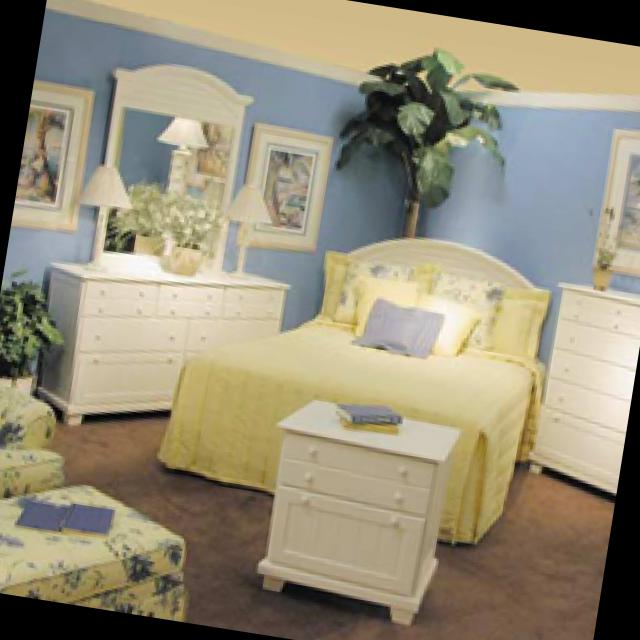bed -occluded-: (159, 233, 553, 540)
book case: (17, 499, 118, 535)
books crop: (337, 402, 408, 436)
bouquet: (598, 210, 617, 288)
carpet floor: (55, 411, 615, 640)
ceiling beam: (106, 0, 640, 93)
dresser: (41, 66, 293, 405), (534, 281, 640, 498)
lamp crop: (83, 164, 136, 266), (225, 182, 280, 273)
mirror crop: (111, 105, 237, 253)
night stand part: (261, 398, 467, 624)
ottoman: (0, 482, 191, 621)
painting crop: (16, 78, 101, 229), (241, 120, 339, 250), (597, 126, 640, 276)
pillow occluded: (323, 254, 435, 326), (355, 294, 450, 360), (439, 271, 508, 344), (419, 292, 488, 355), (360, 274, 419, 337), (498, 297, 548, 346)
plant -x: (342, 45, 519, 237), (0, 277, 68, 376), (167, 195, 219, 275)
poster crop: (249, 126, 342, 247)
